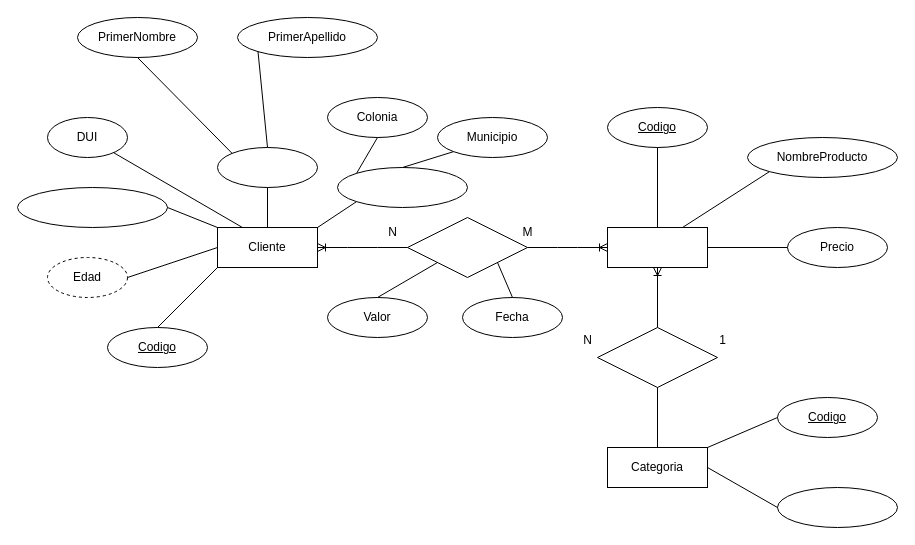
This 915x545 diagram has some shape labels left out. The shapes that lost their labels are listed below. From the top down, each one's box as (x1, y1, x2, y2) in pixels, then its label:
(216, 146, 318, 188): Nombre
(336, 166, 468, 208): Direccion
(16, 186, 168, 228): FechaNacimiento
(406, 216, 528, 278): Compra
(606, 226, 708, 268): Producto
(596, 326, 718, 388): Pertenece
(776, 486, 898, 528): Descripcion
